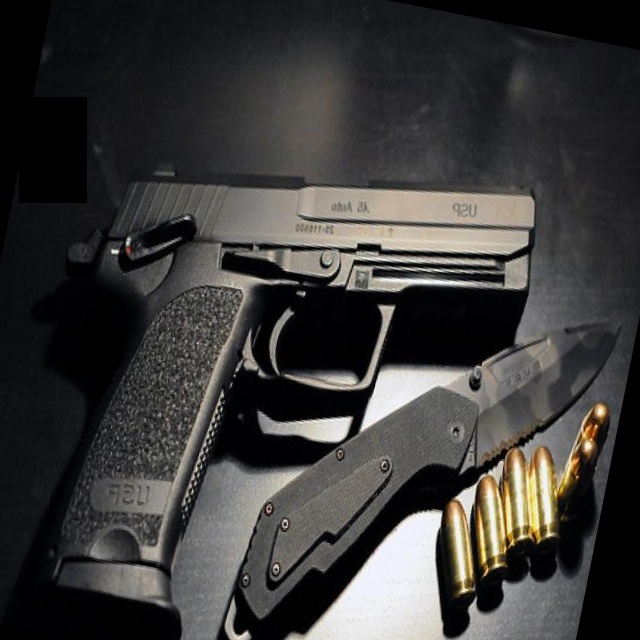gun: (209, 238, 635, 640)
